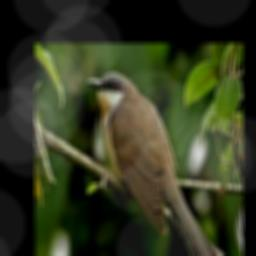Cuckoo: (85, 71, 226, 256)
